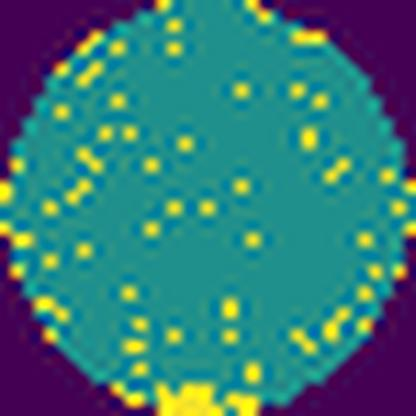Edge-Loc: (149, 375, 233, 416), (224, 384, 265, 416)
